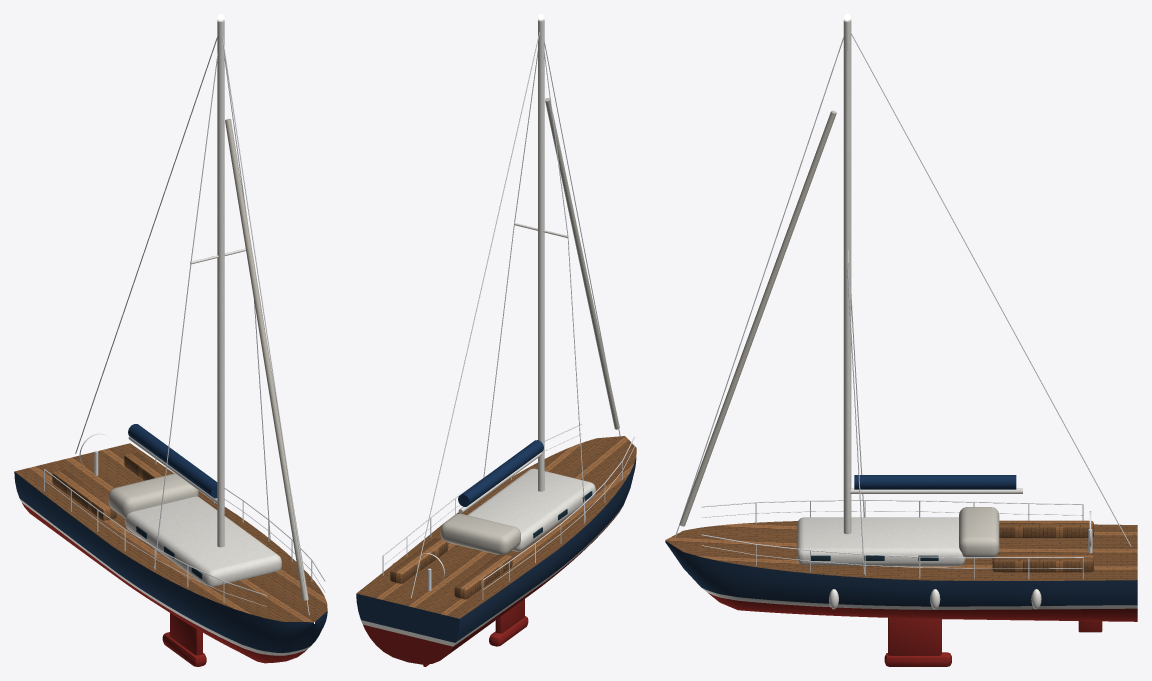
File: sailboat.glb
3 renders of one model, left to right at view 1: azimuth 30°, elevation 25°; view 2: azimuth 150°, elevation 25°; view 3: azimuth 270°, elevation 25°, orthographic. The views are drawn at different scales.
Parts seen in each view (by area): view 1: sailboat; view 2: sailboat; view 3: sailboat.
Boxes of the visible parts, <box> form: sailboat: <box>14,14,327,666</box>; sailboat: <box>356,14,636,666</box>; sailboat: <box>665,14,1137,666</box>.
Size of the model in its own units: 4.44 by 21.3 by 14.
Materials: 11 (6 with a texture image).
